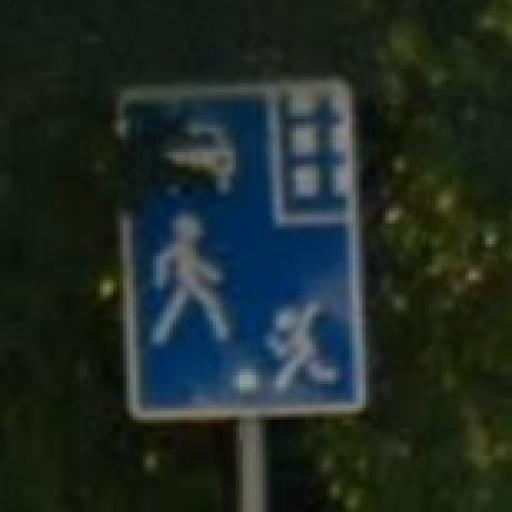traffic_sign: (111, 81, 370, 424)
